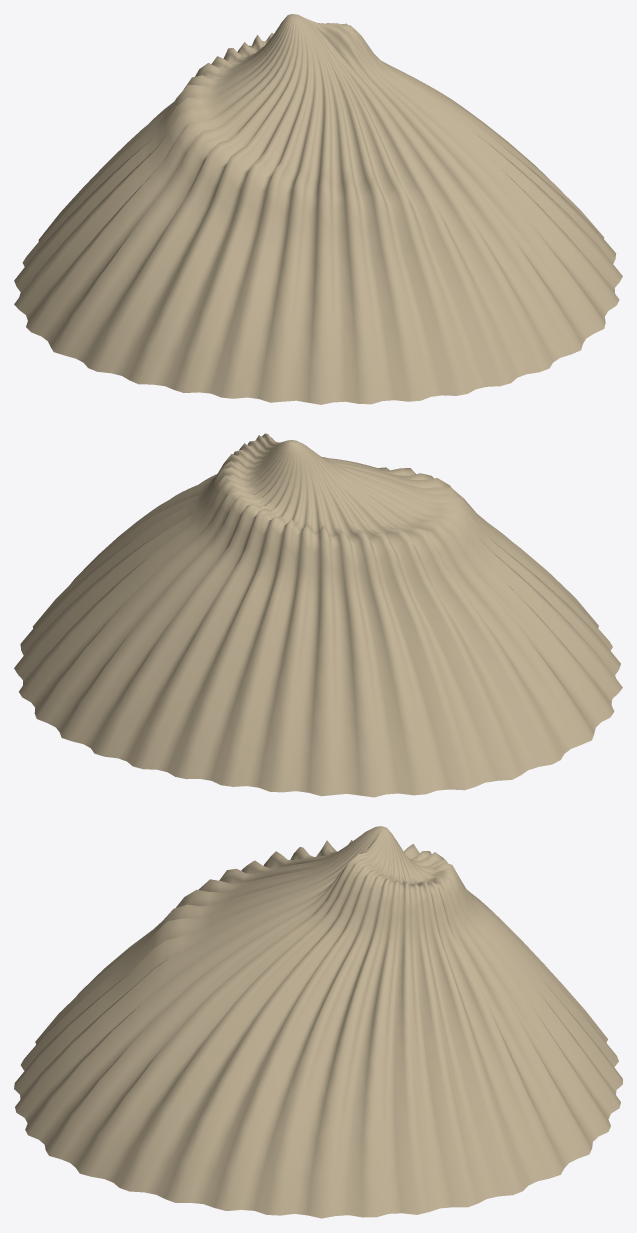
The picture shows the model from 3 angles, top to bottom: view 1: azimuth 30°, elevation 25°; view 2: azimuth 150°, elevation 25°; view 3: azimuth 270°, elevation 25°; orthographic projection. The views are drawn at different scales.
Parts seen in each view (by area): view 1: ribbed_hollow_shell; view 2: ribbed_hollow_shell; view 3: ribbed_hollow_shell.
Boxes of the visible parts, box(x1,y1,x2,y2) form: ribbed_hollow_shell: box(14, 14, 622, 404); ribbed_hollow_shell: box(14, 433, 622, 797); ribbed_hollow_shell: box(14, 826, 622, 1218).
Size of the model in its own units: 0.048 by 0.022 by 0.0456.
